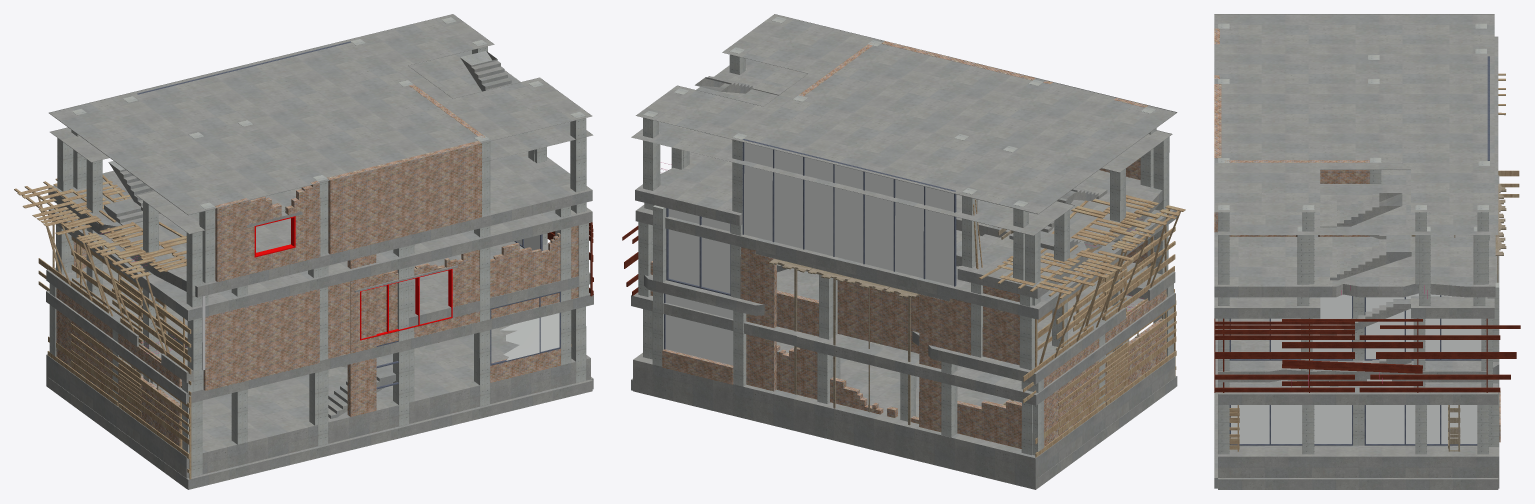
Rendered from v5tower.glb.
The picture shows the model from 3 angles, left to right: view 1: azimuth 30°, elevation 25°; view 2: azimuth 150°, elevation 25°; view 3: azimuth 270°, elevation 25°; orthographic projection.
Visible parts, largest first — view 1: base, mid, top; view 2: base, mid, top; view 3: base, mid, top.
Boxes of the visible parts, left/top/right/bottom form: base: left=14, top=14, right=592, bottom=488; mid: left=38, top=50, right=593, bottom=489; top: left=46, top=267, right=593, bottom=474; base: left=633, top=14, right=1185, bottom=489; mid: left=622, top=58, right=1177, bottom=487; top: left=631, top=280, right=1175, bottom=455; base: left=1214, top=14, right=1506, bottom=488; mid: left=1214, top=36, right=1520, bottom=488; top: left=1218, top=256, right=1499, bottom=489.
Size of the model in its own units: 23.15 by 13.02 by 13.07.
Materials: 10 (9 with a texture image).
